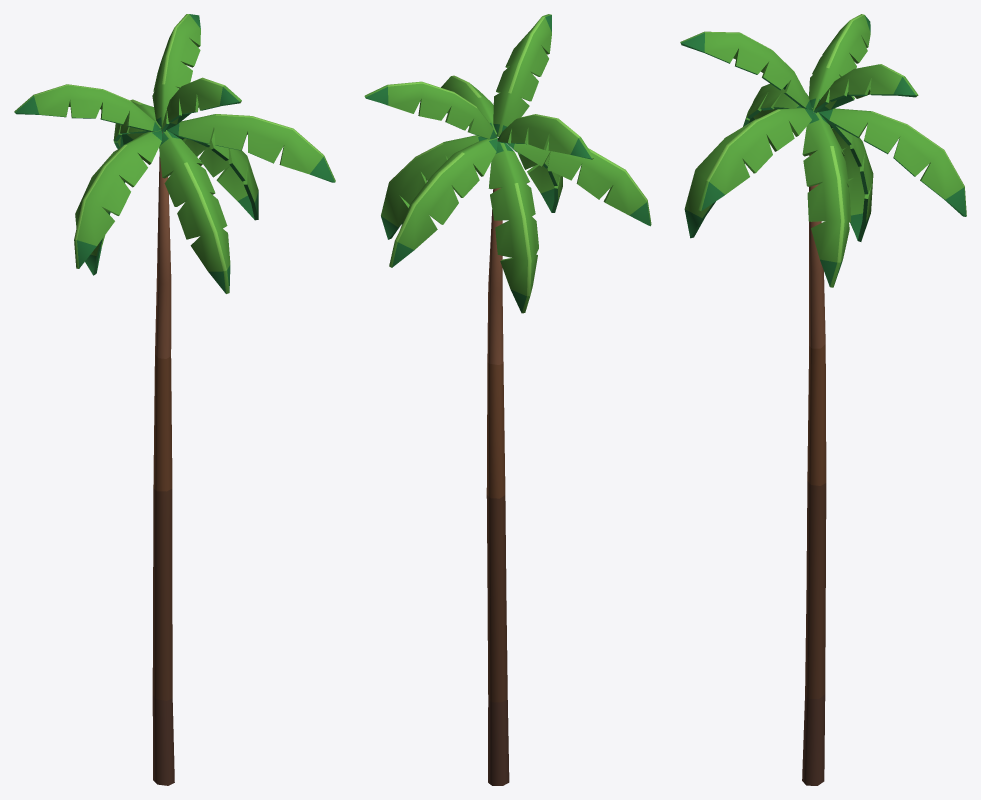
The model's file is palm_03_pacote.glb.
3 renders of one model, left to right at view 1: azimuth 30°, elevation 25°; view 2: azimuth 150°, elevation 25°; view 3: azimuth 270°, elevation 25°, orthographic. The views are drawn at different scales.
Parts seen in each view (by area): view 1: palm_03_pacote; view 2: palm_03_pacote; view 3: palm_03_pacote.
Part boxes in pixels (<box>): palm_03_pacote: <box>14,14,335,785</box>; palm_03_pacote: <box>364,14,651,785</box>; palm_03_pacote: <box>680,14,966,785</box>.
Size of the model in its own units: 4.28 by 12.47 by 4.3.
1 material, 1 textured.
